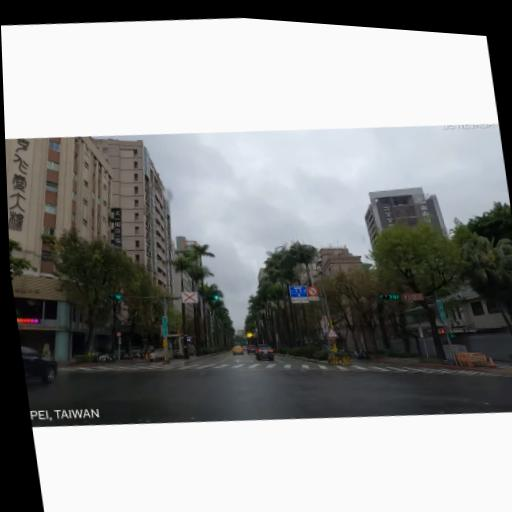Car: (21, 339, 62, 398), (251, 341, 275, 362), (231, 343, 244, 355), (246, 342, 257, 355), (241, 344, 248, 352)
